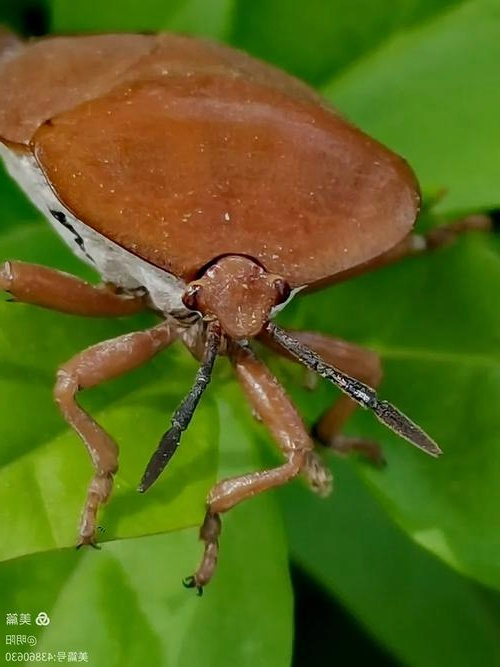Stink_Bug: (27, 8, 402, 506)
